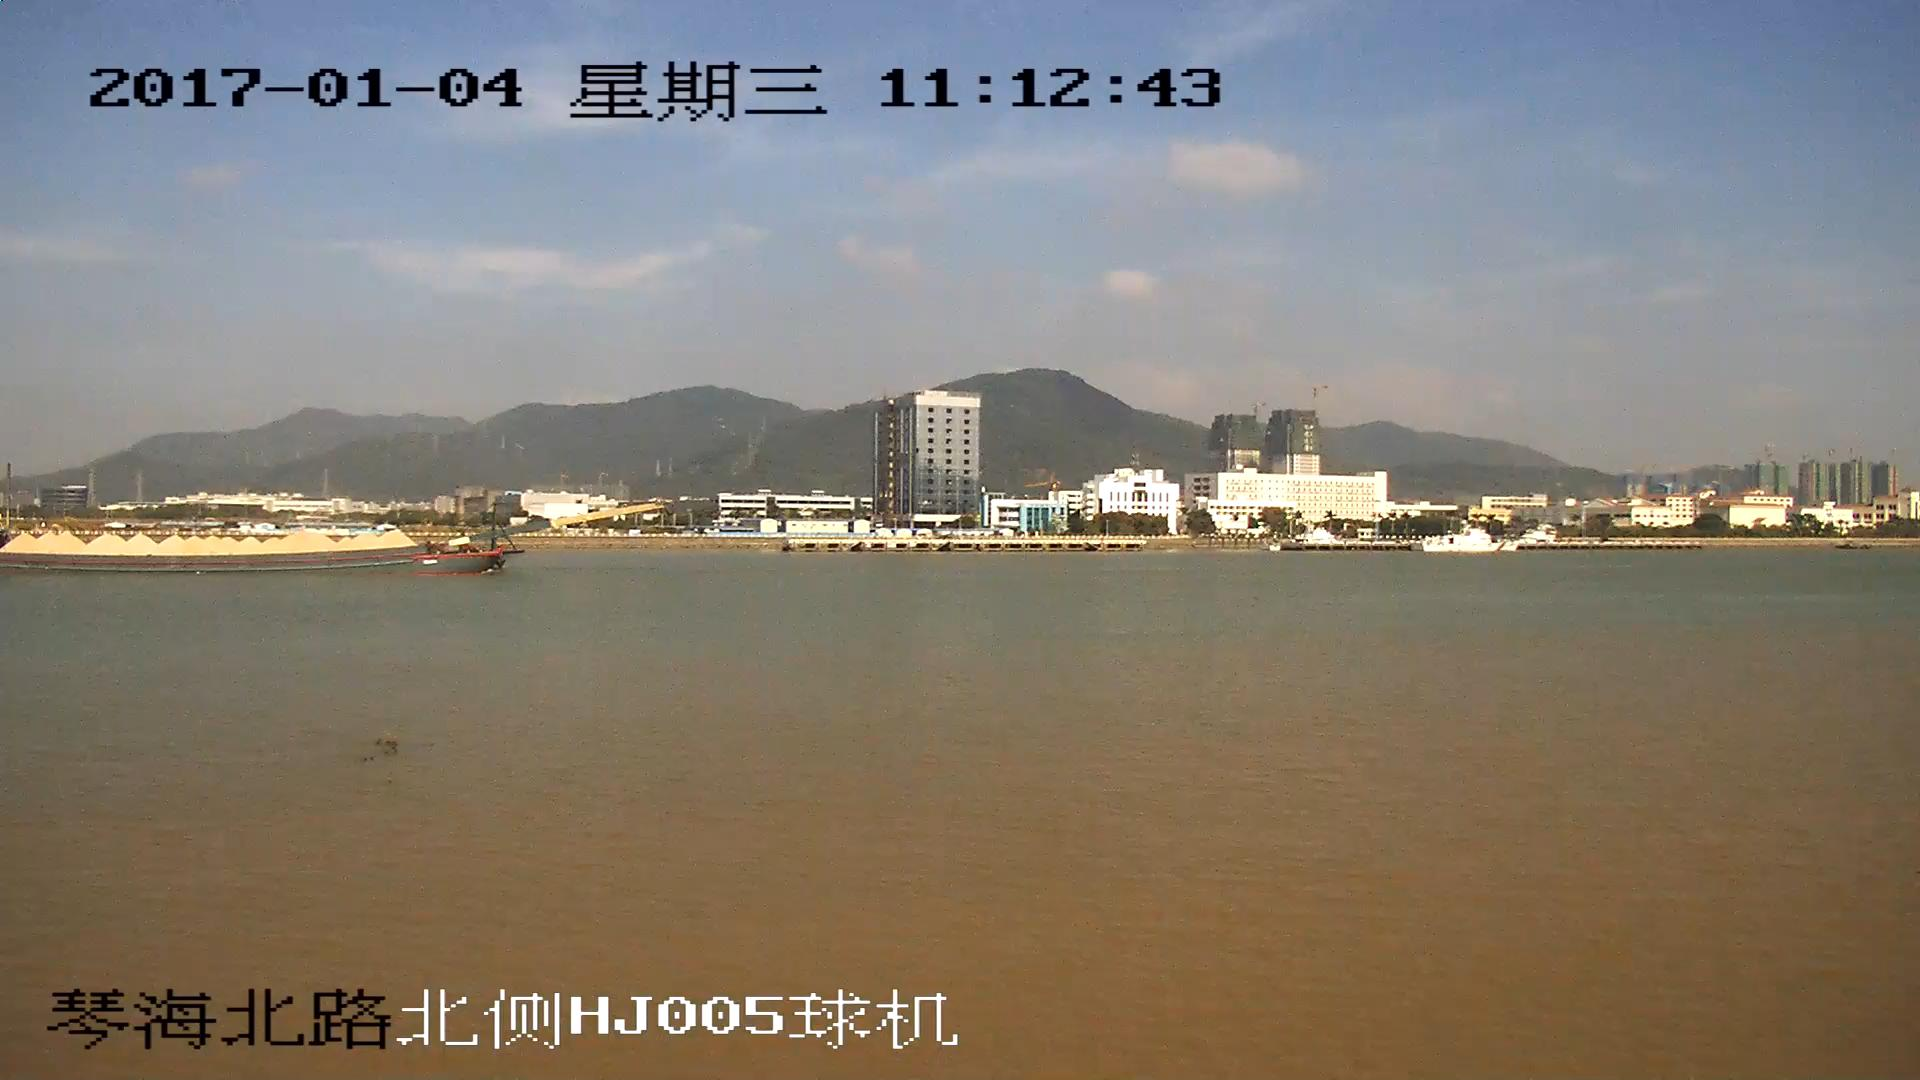ore carrier: (1, 503, 657, 575)
